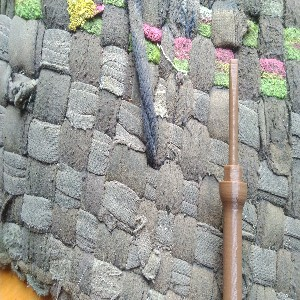obeng: (218, 58, 248, 300)
